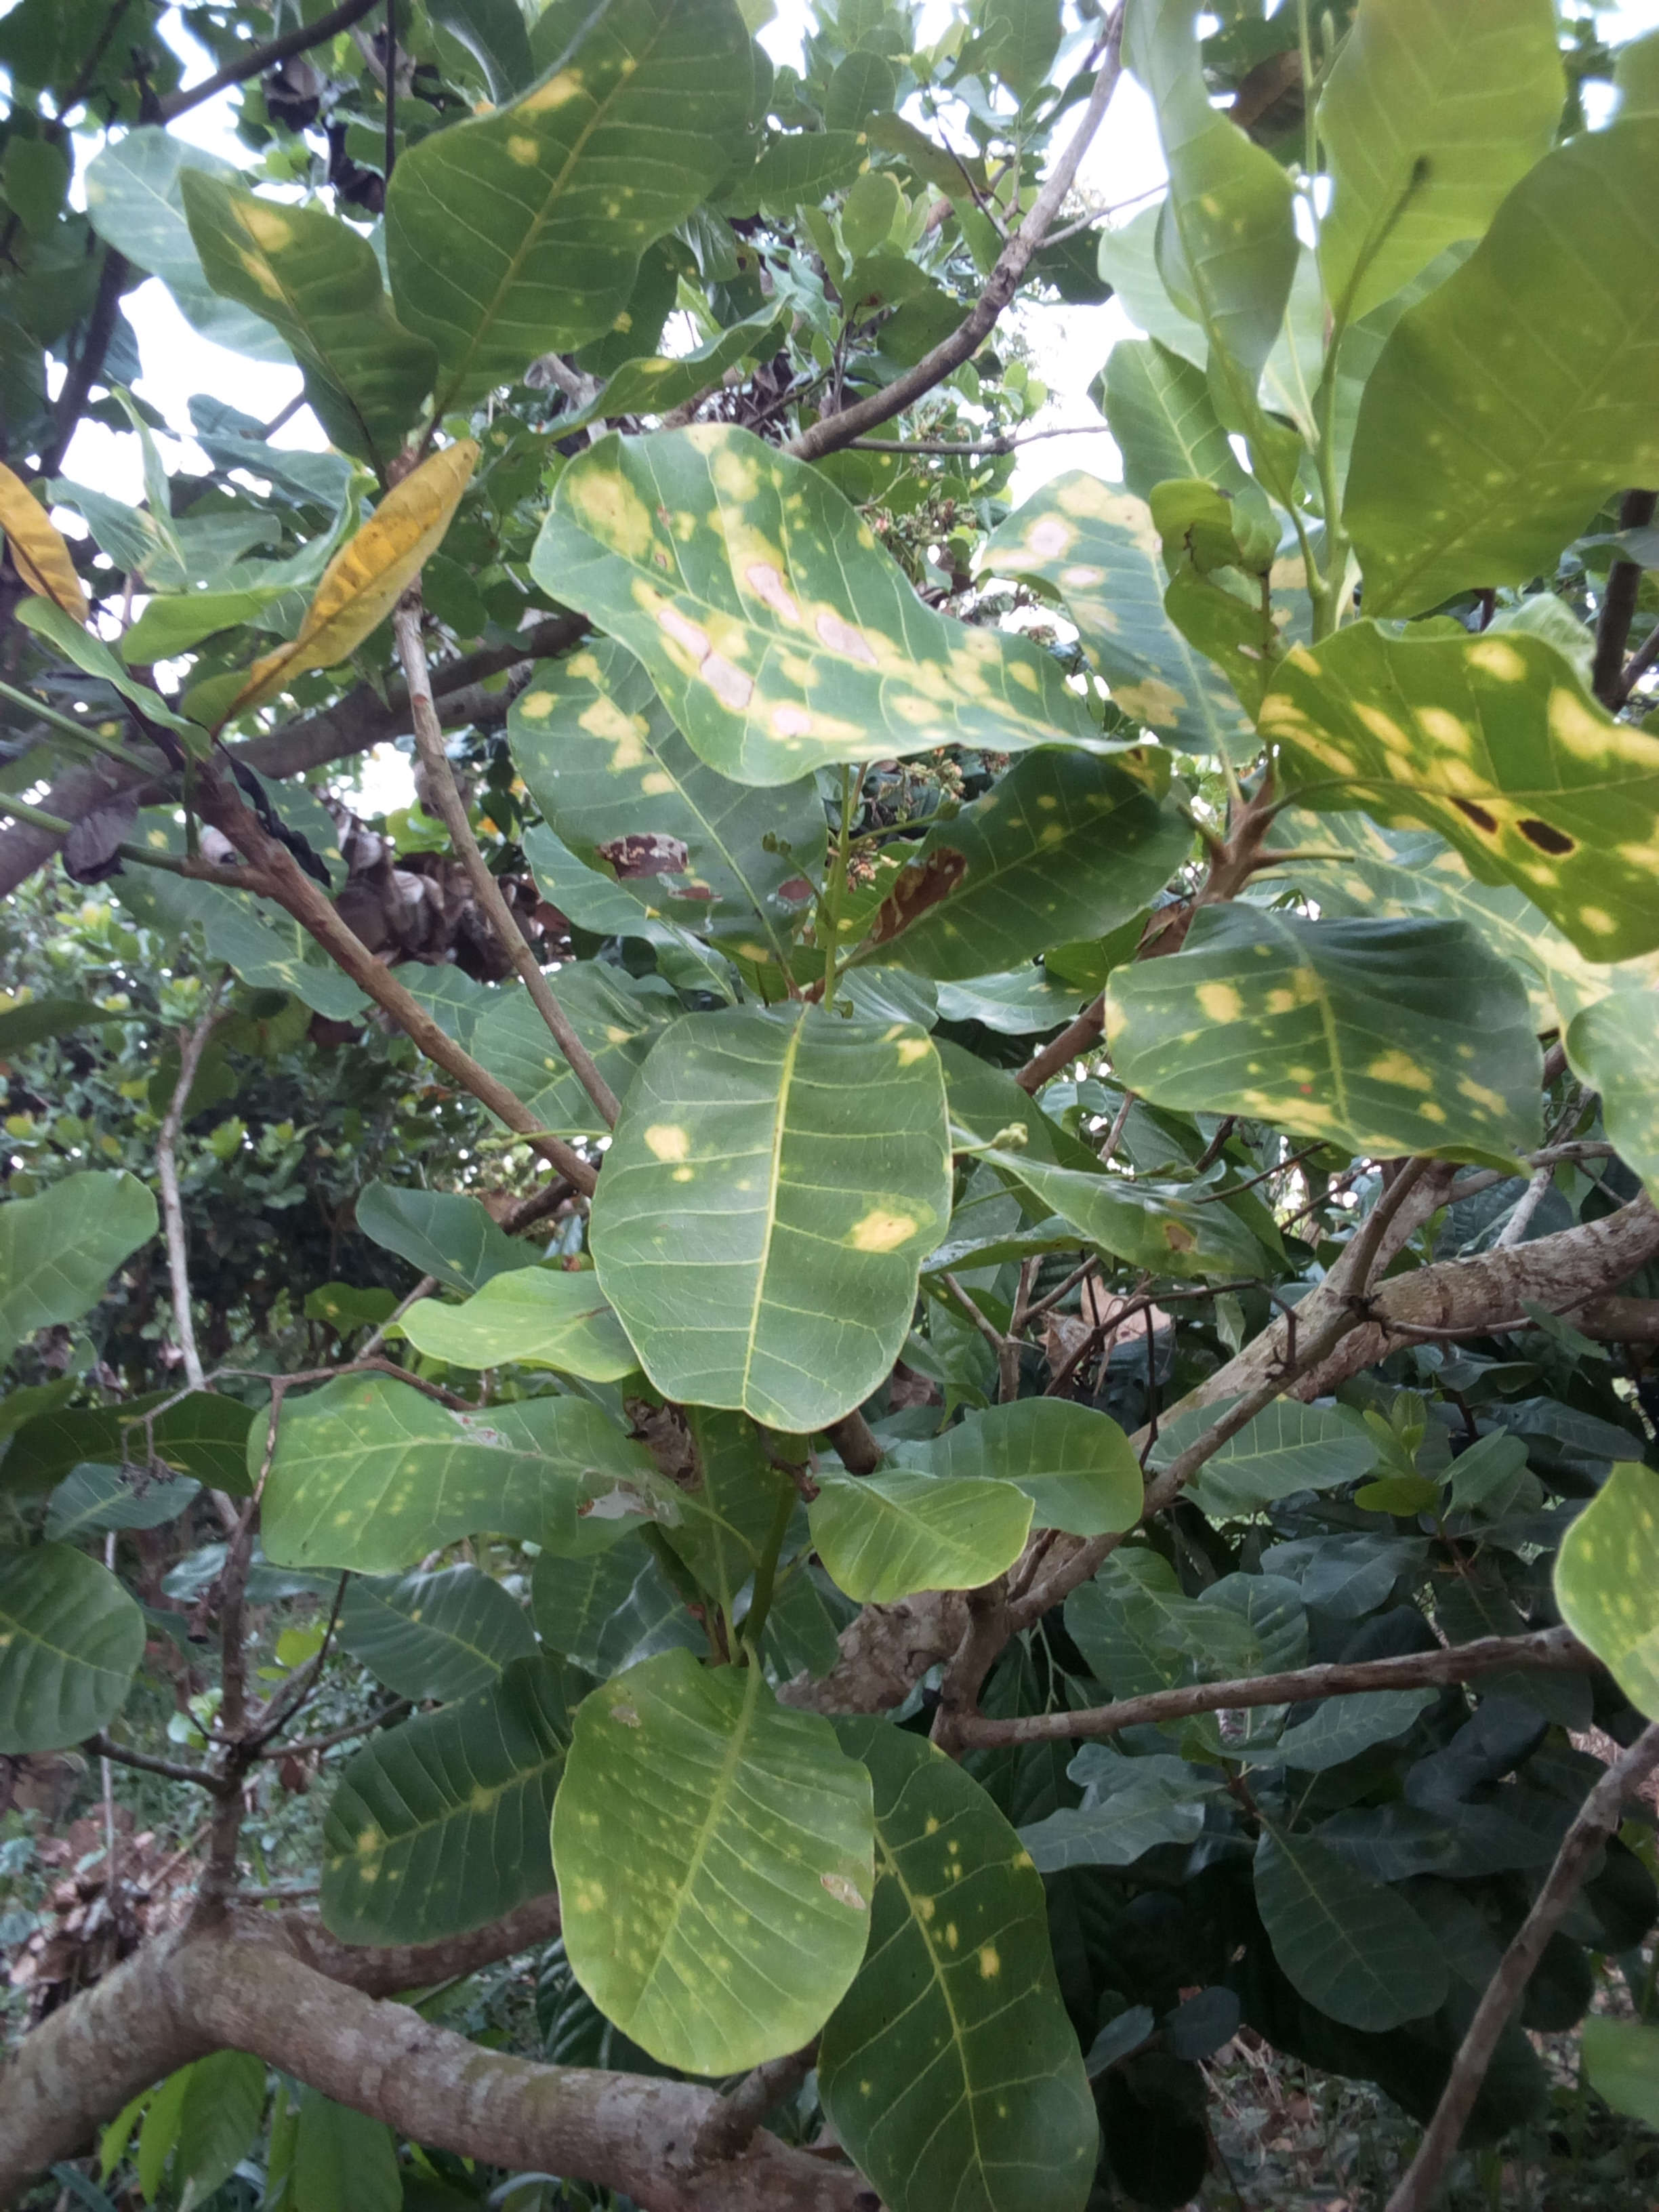Carence minérale: (514, 408, 1171, 826), (568, 974, 1019, 1435), (328, 0, 784, 413), (1338, 117, 1659, 641), (532, 1651, 915, 2074), (1091, 880, 1612, 1177), (1246, 625, 1656, 970), (288, 1658, 694, 1973), (220, 1346, 680, 1580), (1525, 1439, 1659, 1743)
